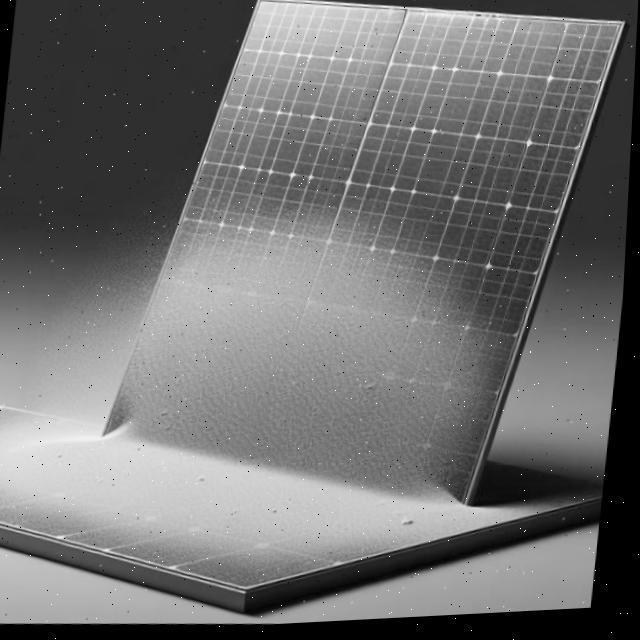Anomaly Solar Panel: (108, 0, 622, 511)
Surface Contaminant: (110, 168, 548, 507)
